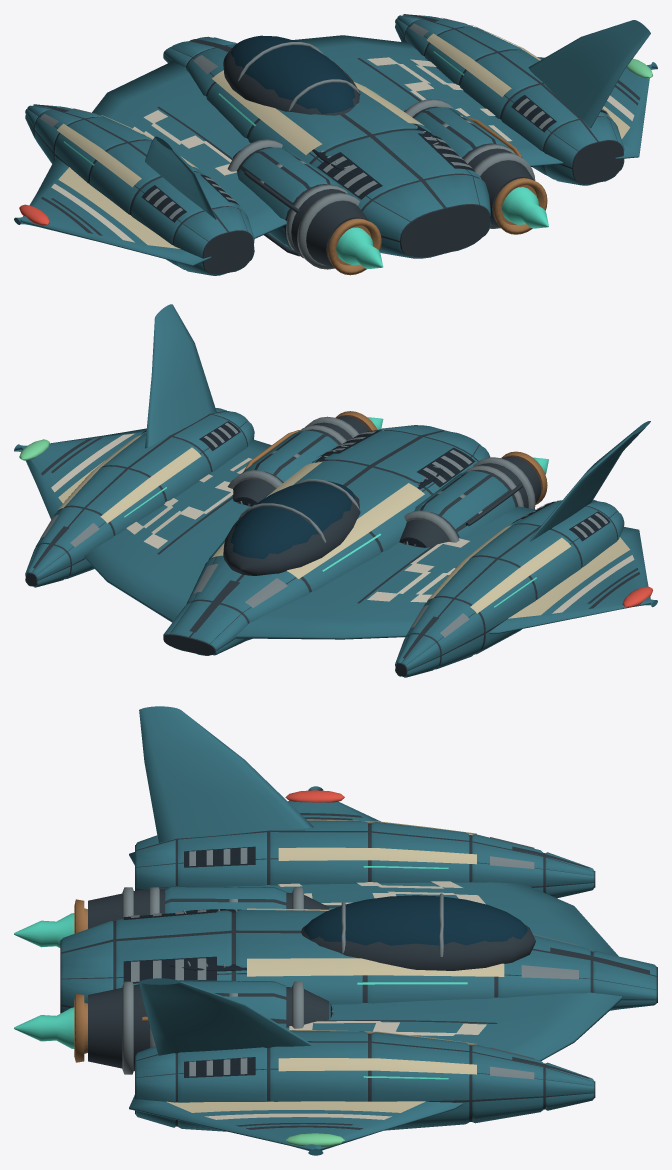
File: tide_heavy.glb
3 views of the same model, one above another, from view 1: azimuth 30°, elevation 25°; view 2: azimuth 150°, elevation 25°; view 3: azimuth 270°, elevation 25° (orthographic). The views are drawn at different scales.
Visible parts, largest first — view 1: tide_heavy; view 2: tide_heavy; view 3: tide_heavy.
Boxes of the visible parts, <box> form: tide_heavy: <box>14,14,657,275</box>; tide_heavy: <box>14,304,657,677</box>; tide_heavy: <box>14,706,657,1155</box>.
Size of the model in its own units: 13.84 by 3.24 by 10.39.
